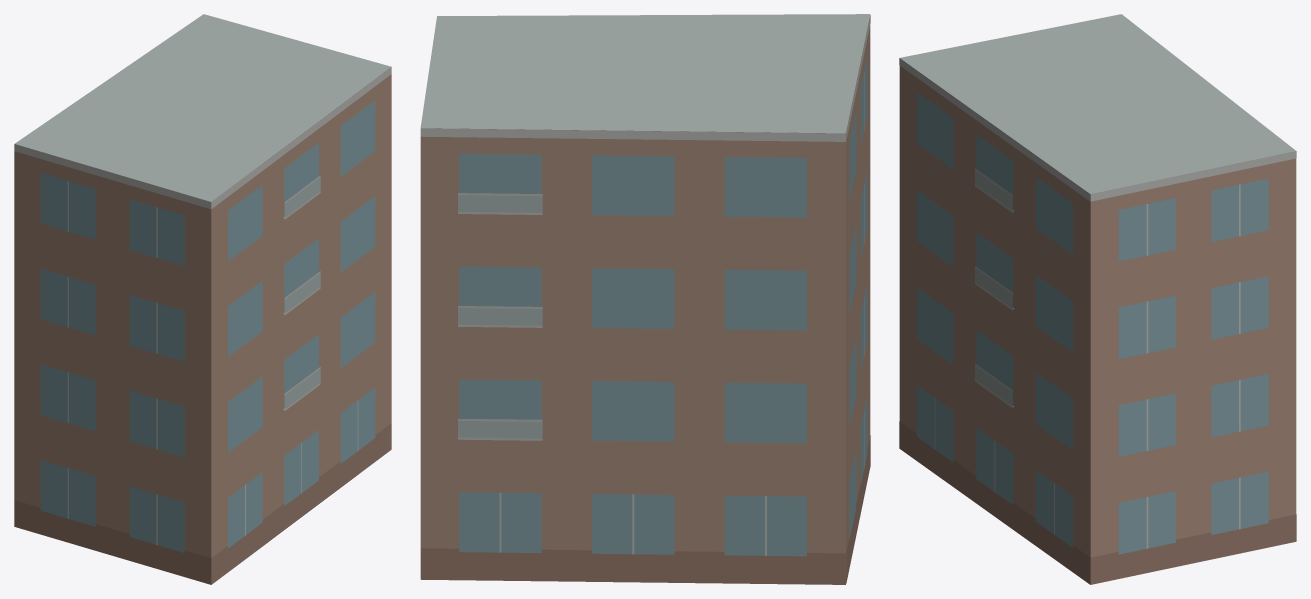
The model's file is survey-upis-32668184.glb.
3 renders of one model, left to right at view 1: azimuth 30°, elevation 25°; view 2: azimuth 150°, elevation 25°; view 3: azimuth 270°, elevation 25°, orthographic. The views are drawn at different scales.
Parts seen in each view (by area): view 1: survey-upis-32668184.tmp; view 2: survey-upis-32668184.tmp; view 3: survey-upis-32668184.tmp.
Boxes of the visible parts, x1,y1,x2,y2 form: survey-upis-32668184.tmp: [14, 14, 391, 584]; survey-upis-32668184.tmp: [420, 14, 870, 584]; survey-upis-32668184.tmp: [899, 14, 1296, 584].
Size of the model in its own units: 12.68 by 12.8 by 11.8.
